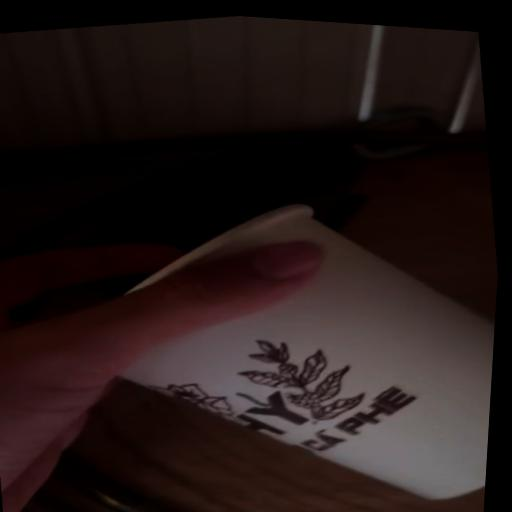Ly_giay: (121, 205, 495, 499)
